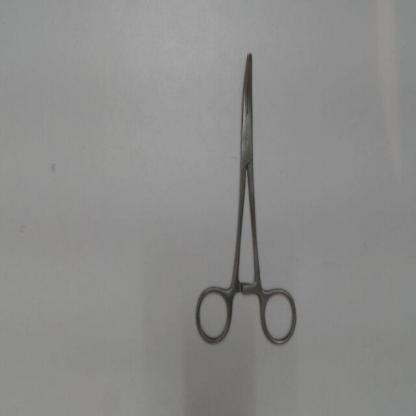Crile Artery Forceps: (188, 41, 306, 357)
